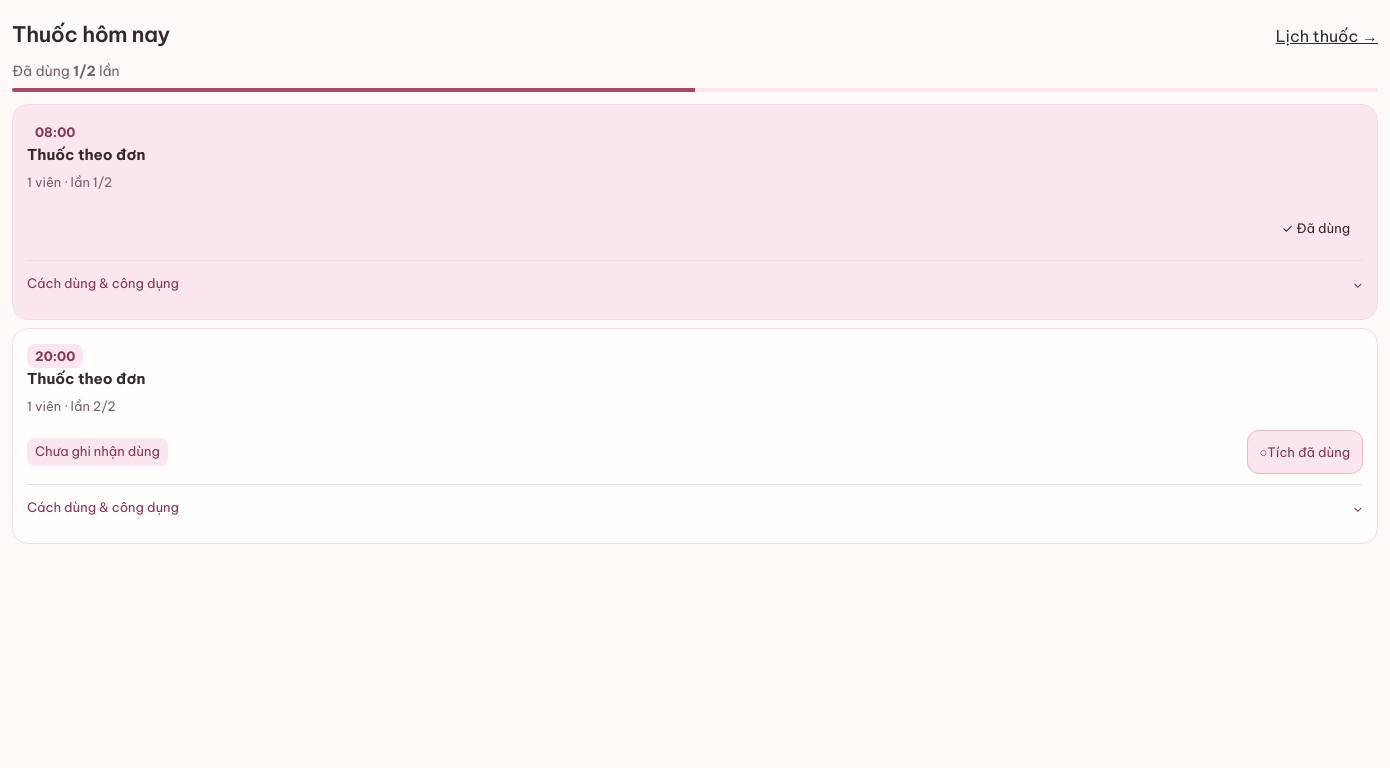
it: records the selected slot only after a server receipt
Click the button with aria-label "Đánh dấu đã dùng Thuốc theo đơn lần 2": (1305, 452) [1246, 430, 1363, 474]
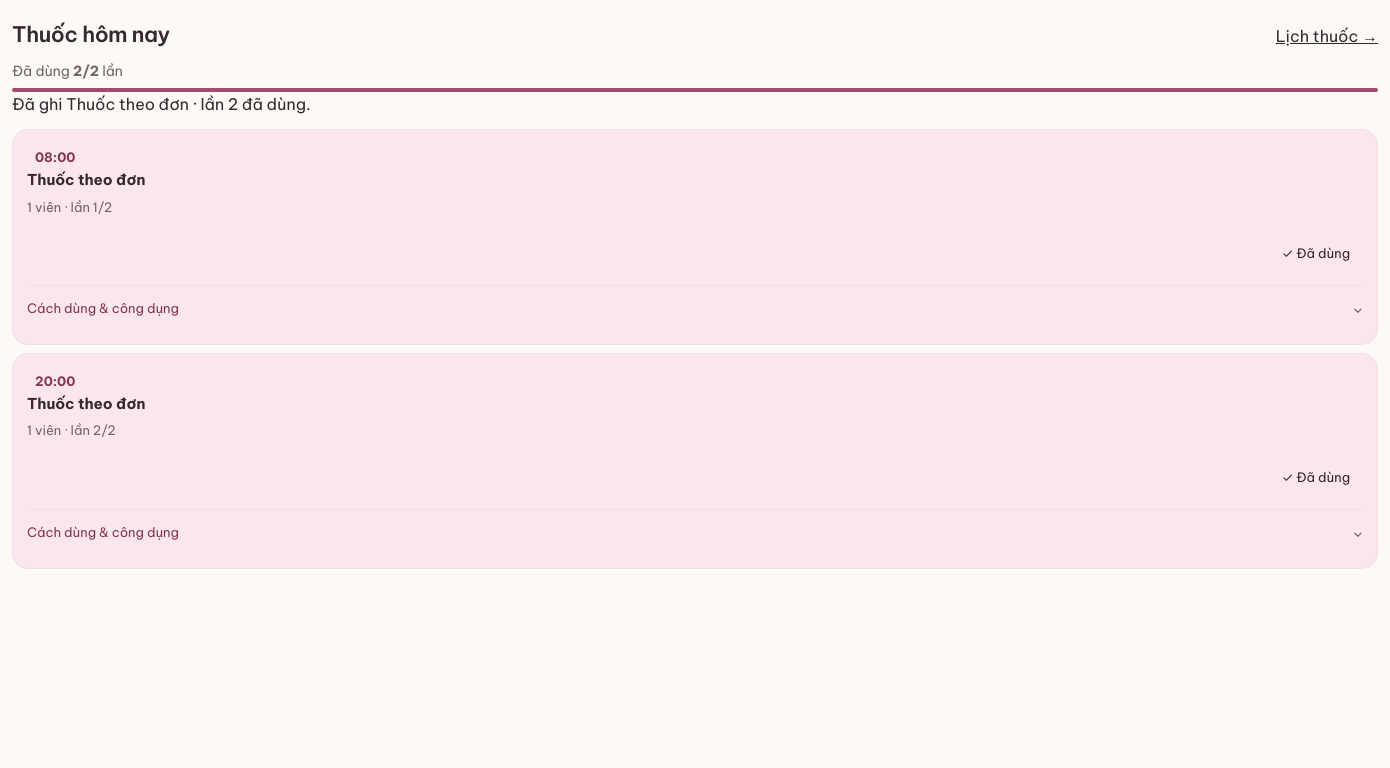
Expected: the text "Đã ghi Thuốc theo đơn · lần 2 đã dùng." is shown, [12, 94, 310, 114]
